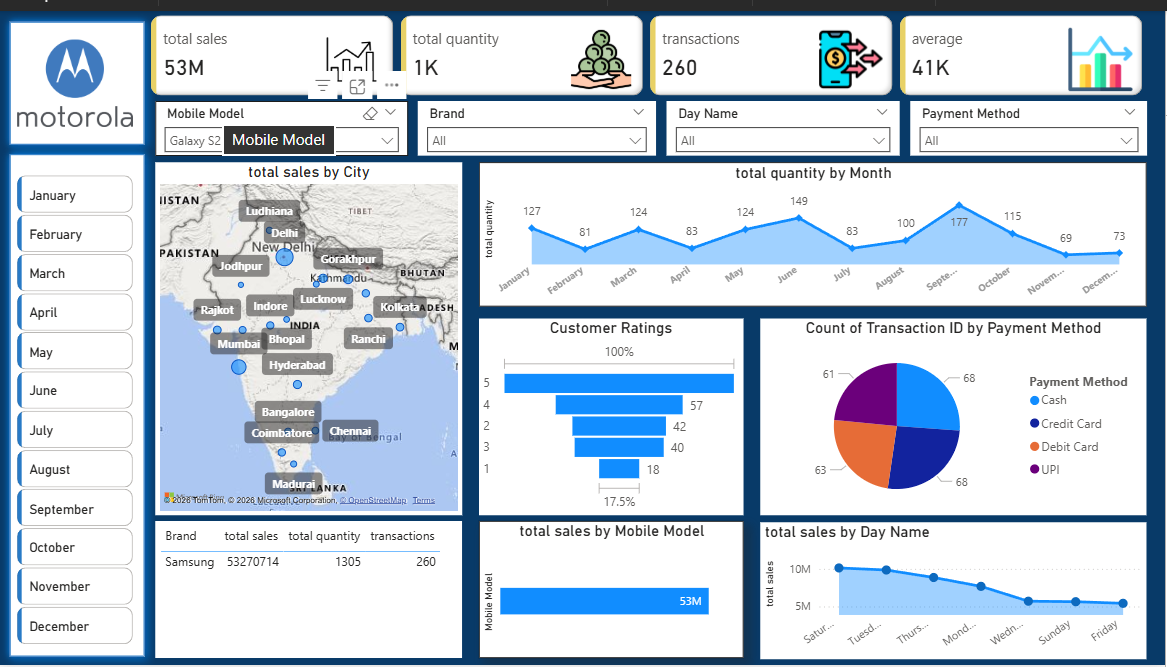

What the dashboard file says about the page in this screenshot:
{"tool":"powerbi","page":{"name":"Page 1","canvas":[1280,720],"ordinal":0},"visuals":[{"type":"shape","box":[0,0,171.4,158.6],"z":0},{"type":"image","box":[15.1,23.3,137.2,112.5],"z":1000},{"type":"shape","box":[0,145.5,171.5,575],"z":2000},{"type":"advancedSlicerVisual","fields":{"Values":["Sheet1.Date.Variation.Date Hierarchy.Month"]},"box":[15.1,175.6,137.2,533.8],"z":3000},{"type":"cardVisual","fields":{"Data":["sales_sheet.total sales","sales_sheet.total quantity","sales_sheet.transactions","sales_sheet.average"]},"box":[161.7,0,1098.3,98.3],"z":4000},{"type":"map","fields":{"Category":["sales_sheet.City"],"Size":["sales_sheet.total sales"]},"box":[171.4,165.7,337.1,387.1],"z":5000},{"type":"lineChart","fields":{"Y":["sales_sheet.total quantity"],"Category":["sales_sheet.Date.Variation.Date Hierarchy.Month"]},"box":[527.1,165.7,732.9,158.6],"z":6000},{"type":"barChart","fields":{"Category":["sales_sheet.Mobile Model"],"Y":["sales_sheet.total sales"]},"box":[527.1,560,290,150],"z":7000},{"type":"pieChart","fields":{"Category":["sales_sheet.Payment Method"],"Y":["CountNonNull(sales_sheet.Transaction ID)"]},"box":[835.7,337.1,424.3,215.7],"z":8000},{"type":"funnel","title":"Customer Ratings ","fields":{"Category":["sales_sheet.Customer Ratings"],"Y":["CountNonNull(sales_sheet.Customer Ratings)"]},"box":[527.1,337.1,290,215.7],"z":9000},{"type":"areaChart","fields":{"Category":["sales_sheet.Day Name"],"Y":["sales_sheet.total sales"]},"box":[835.7,561.4,424.3,150],"z":10000},{"type":"tableEx","fields":{"Values":["sales_sheet.Brand","sales_sheet.total sales","sales_sheet.total quantity","sales_sheet.transactions"]},"box":[171.4,560,337.1,150],"z":11000},{"type":"slicer","fields":{"Values":["sales_sheet.Mobile Model"]},"box":[171.4,98.6,277.1,60],"z":12000},{"type":"slicer","fields":{"Values":["sales_sheet.Brand"]},"box":[460,98.6,261.4,60],"z":13000},{"type":"slicer","fields":{"Values":["sales_sheet.Day Name"]},"box":[732.9,98.6,255.7,60],"z":14000},{"type":"slicer","fields":{"Values":["sales_sheet.Payment Method"]},"box":[1000,98.6,260,60],"z":15000}]}

Visuals, with their boxes in screenshot pixels (x1, y1, x2, y2):
shape: <bbox>3, 12, 157, 155</bbox>
image: <bbox>17, 33, 140, 134</bbox>
shape: <bbox>3, 143, 157, 660</bbox>
advancedSlicerVisual - Sheet1.Date.Variation.Date Hierarchy.Month: <bbox>17, 170, 140, 650</bbox>
cardVisual - sales_sheet.total sales x sales_sheet.total quantity: <bbox>148, 12, 1136, 101</bbox>
map - sales_sheet.City x sales_sheet.total sales: <bbox>157, 161, 460, 509</bbox>
lineChart - sales_sheet.total quantity x sales_sheet.Date.Variation.Date Hierarchy.Month: <bbox>477, 161, 1136, 304</bbox>
barChart - sales_sheet.Mobile Model x sales_sheet.total sales: <bbox>477, 516, 738, 651</bbox>
pieChart - sales_sheet.Payment Method x CountNonNull(sales_sheet.Transaction ID): <bbox>754, 315, 1136, 509</bbox>
"Customer Ratings " funnel: <bbox>477, 315, 738, 509</bbox>
areaChart - sales_sheet.Day Name x sales_sheet.total sales: <bbox>754, 517, 1136, 652</bbox>
tableEx - sales_sheet.Brand x sales_sheet.total sales: <bbox>157, 516, 460, 651</bbox>
slicer - sales_sheet.Mobile Model: <bbox>157, 101, 406, 155</bbox>
slicer - sales_sheet.Brand: <bbox>417, 101, 652, 155</bbox>
slicer - sales_sheet.Day Name: <bbox>662, 101, 892, 155</bbox>
slicer - sales_sheet.Payment Method: <bbox>902, 101, 1136, 155</bbox>
